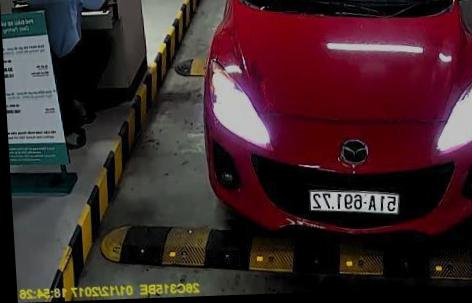License_Plate: (309, 185, 402, 217)
